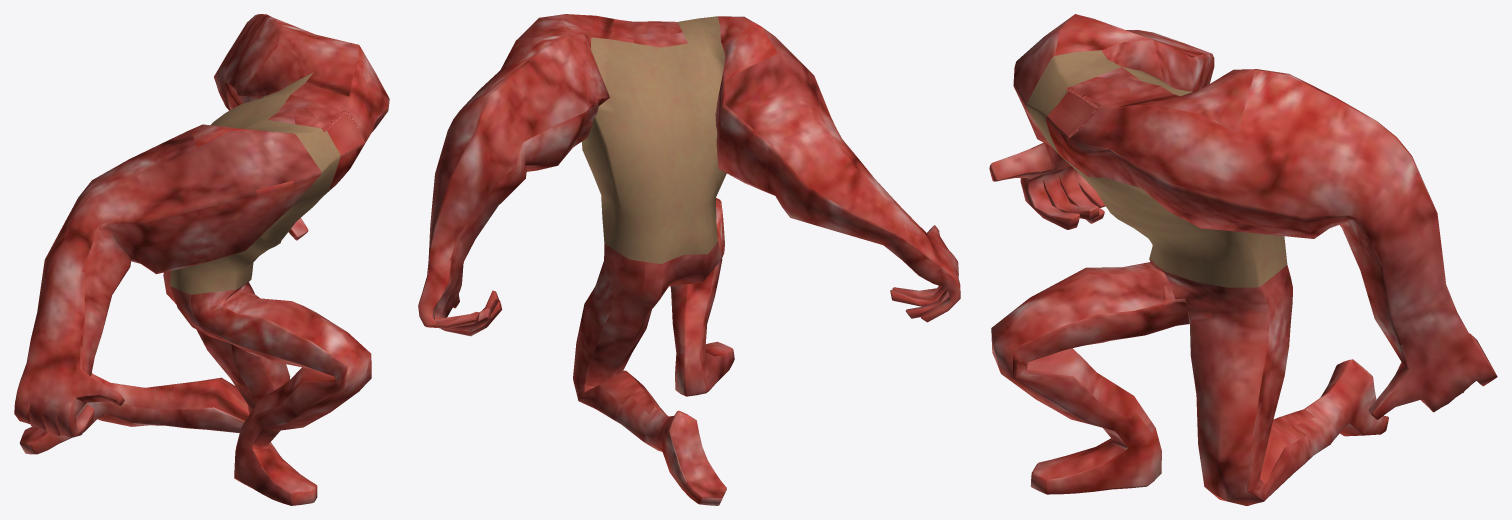
File: giant.obj
The picture shows the model from 3 angles, left to right: view 1: azimuth 30°, elevation 25°; view 2: azimuth 150°, elevation 25°; view 3: azimuth 270°, elevation 25°; orthographic projection. The views are drawn at different scales.
Parts seen in each view (by area): view 1: HumanMale; view 2: HumanMale; view 3: HumanMale.
Part boxes in pixels (x1,y1,x2,y2): HumanMale: (14, 14, 389, 505); HumanMale: (418, 14, 960, 505); HumanMale: (989, 14, 1497, 505).
Size of the model in its own units: 2.07 by 1.94 by 1.86.
Materials: 2 (2 with a texture image).
